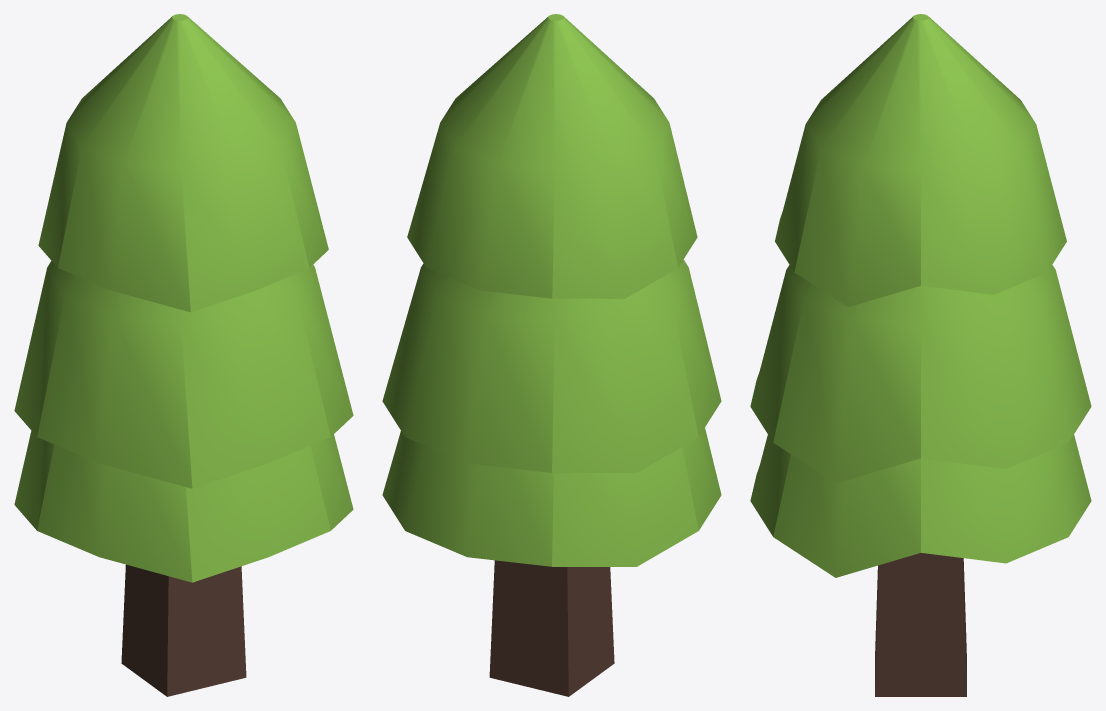
File: tree3.fbx
3 views of the same model, side by side, from view 1: azimuth 30°, elevation 25°; view 2: azimuth 150°, elevation 25°; view 3: azimuth 270°, elevation 25° (orthographic).
Visible parts, largest first — view 1: tree3; view 2: tree3; view 3: tree3.
Boxes of the visible parts, x1,y1,x2,y2 form: tree3: (14, 14, 353, 696); tree3: (382, 14, 721, 696); tree3: (750, 14, 1091, 696).
Size of the model in its own units: 430 by 914 by 430.
